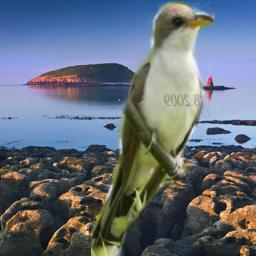Cuckoo: (91, 0, 215, 256)
